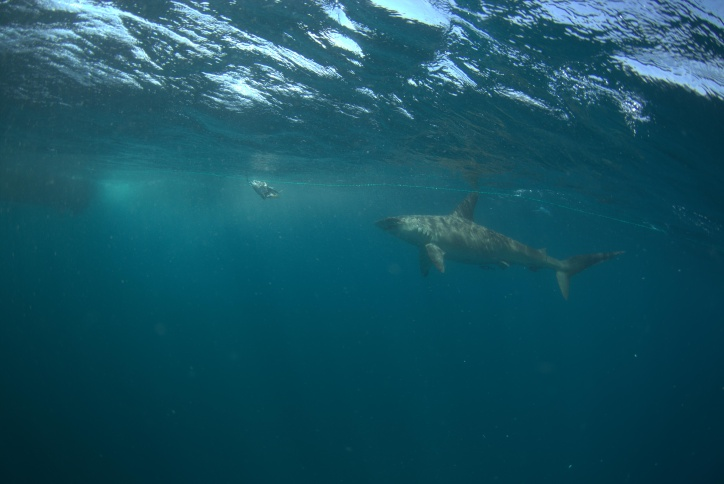Hammer: (364, 179, 633, 303)
